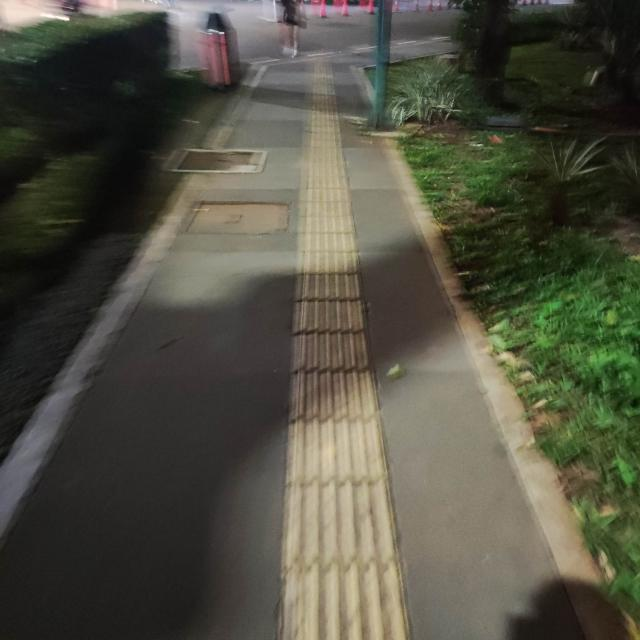lurus: (265, 114, 396, 640)
